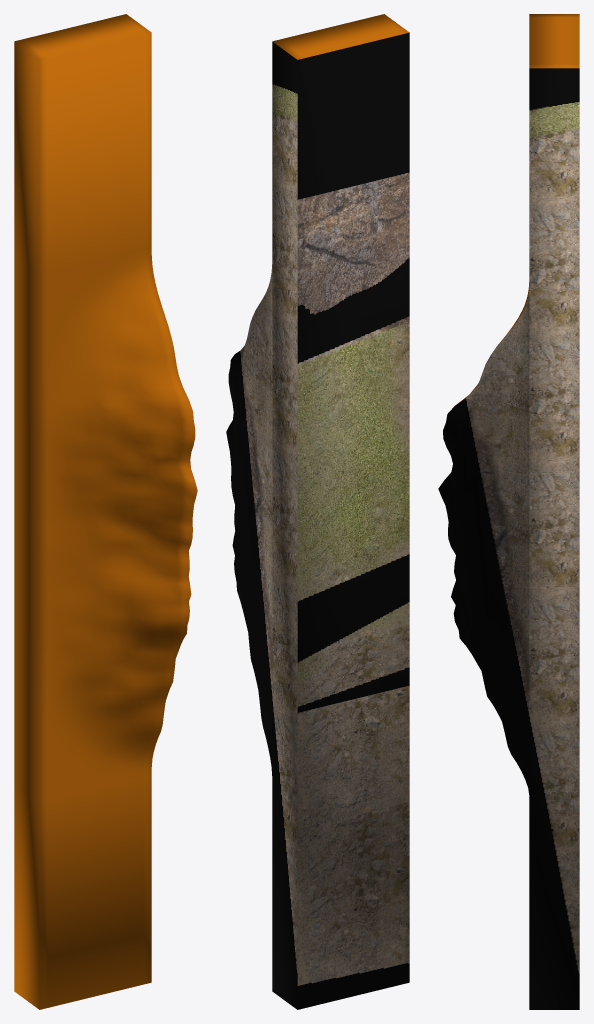
Rendered from Welt-xna_test.fbx.
3 renders of one model, left to right at view 1: azimuth 30°, elevation 25°; view 2: azimuth 210°, elevation 25°; view 3: azimuth 270°, elevation 25°, orthographic.
Visible parts, largest first — view 1: Landscape; view 2: Landscape; view 3: Landscape.
Part boxes in pixels (x1=…): Landscape: x1=14, y1=14, x2=197, y2=1009; Landscape: x1=226, y1=14, x2=409, y2=1009; Landscape: x1=438, y1=14, x2=579, y2=1009.
Bounding box in the file's own units: 3.57 × 28.86 × 3.93.
2 materials, 1 textured.
